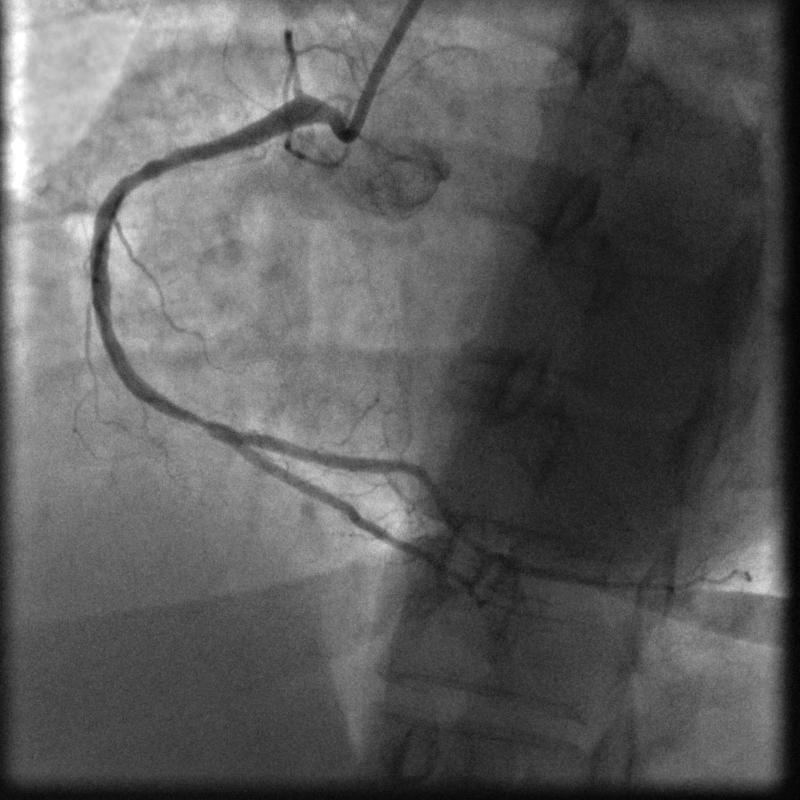Stenosis: (186, 398, 221, 443)
